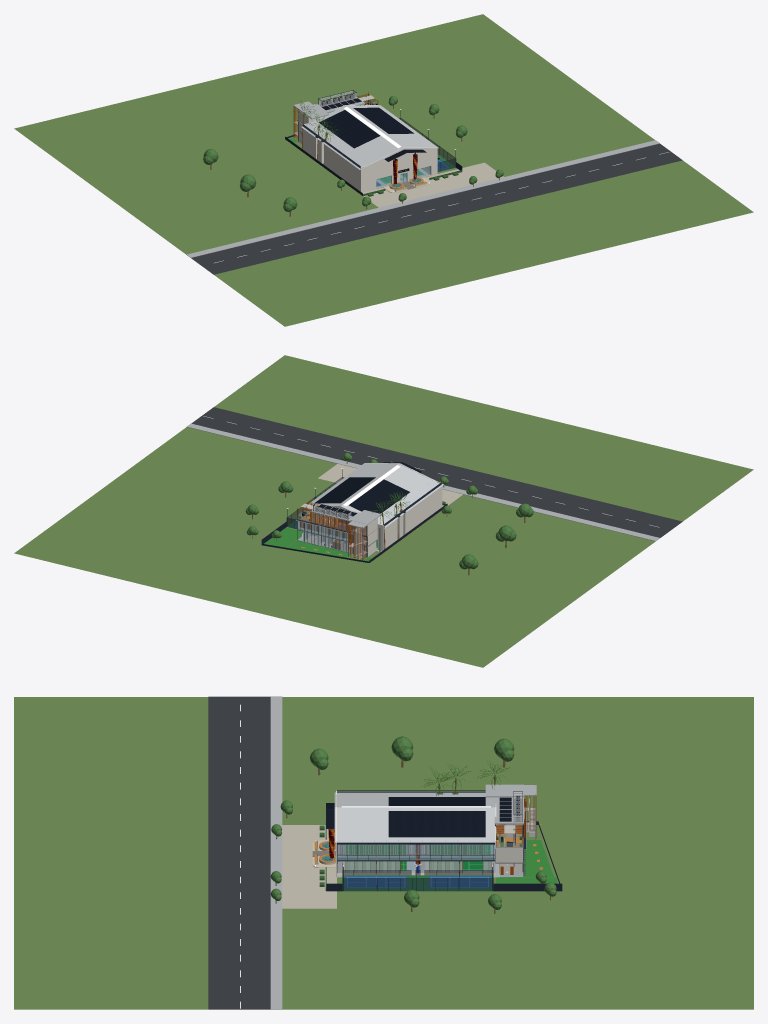
The model's file is MyPlace_Master_vR49.dae.
The picture shows the model from 3 angles, top to bottom: view 1: azimuth 30°, elevation 25°; view 2: azimuth 150°, elevation 25°; view 3: azimuth 270°, elevation 25°; orthographic projection. The views are drawn at different scales.
Parts seen in each view (by area): view 1: site__grass, site__asphalt, hall_shell__plaster, hall_roof__roofSheet, site__concrete, hall_roof__solar, site__paving, trees__treeCrown; view 2: site__grass, site__asphalt, hall_roof__roofSheet, site__concrete, hall_roof__solar, hall_shell__plaster, trees__treeCrown, outdoor__turf, fences__charcoal, site__paving, rear_roof__concrete; view 3: site__grass, site__asphalt, hall_roof__roofSheet, site__paving, site__concrete, hall_roof__solar, outdoor__mat_1f2937, hall_shell__glass, trees__treeCrown, hall_interior__court, outdoor__pickleTex, hall_shell__glassFrost (+11 smaller).
Part boxes in pixels (x1=…): site__grass: x1=14, y1=14, x2=753, y2=326; site__asphalt: x1=191, y1=143, x2=682, y2=274; hall_shell__plaster: x1=302, y1=105, x2=437, y2=192; hall_roof__roofSheet: x1=301, y1=105, x2=438, y2=169; site__concrete: x1=187, y1=140, x2=659, y2=257; hall_roof__solar: x1=319, y1=107, x2=413, y2=148; site__paving: x1=362, y1=162, x2=503, y2=207; trees__treeCrown: x1=203, y1=96, x2=503, y2=211; site__grass: x1=14, y1=355, x2=753, y2=667; site__asphalt: x1=191, y1=407, x2=682, y2=537; hall_roof__roofSheet: x1=308, y1=463, x2=443, y2=527; site__concrete: x1=186, y1=423, x2=659, y2=551; hall_roof__solar: x1=314, y1=477, x2=409, y2=513; hall_shell__plaster: x1=308, y1=463, x2=442, y2=550; trees__treeCrown: x1=245, y1=452, x2=533, y2=569; outdoor__turf: x1=264, y1=527, x2=371, y2=561; fences__charcoal: x1=261, y1=503, x2=447, y2=562; site__paving: x1=318, y1=464, x2=462, y2=506; rear_roof__concrete: x1=311, y1=503, x2=381, y2=528; site__grass: x1=14, y1=697, x2=753, y2=1009; site__asphalt: x1=208, y1=696, x2=270, y2=1009; hall_roof__roofSheet: x1=334, y1=792, x2=495, y2=842; site__paving: x1=282, y1=825, x2=495, y2=908; site__concrete: x1=270, y1=696, x2=499, y2=1009; hall_roof__solar: x1=388, y1=797, x2=485, y2=837; outdoor__mat_1f2937: x1=342, y1=870, x2=493, y2=890; hall_shell__glass: x1=337, y1=844, x2=494, y2=859; trees__treeCrown: x1=270, y1=736, x2=556, y2=909; hall_interior__court: x1=345, y1=845, x2=490, y2=870; outdoor__pickleTex: x1=345, y1=876, x2=490, y2=888; hall_shell__glassFrost: x1=337, y1=861, x2=495, y2=872.
Size of the model in its own units: 160 by 160 by 16.22.
Materials: 73 (6 with a texture image).
